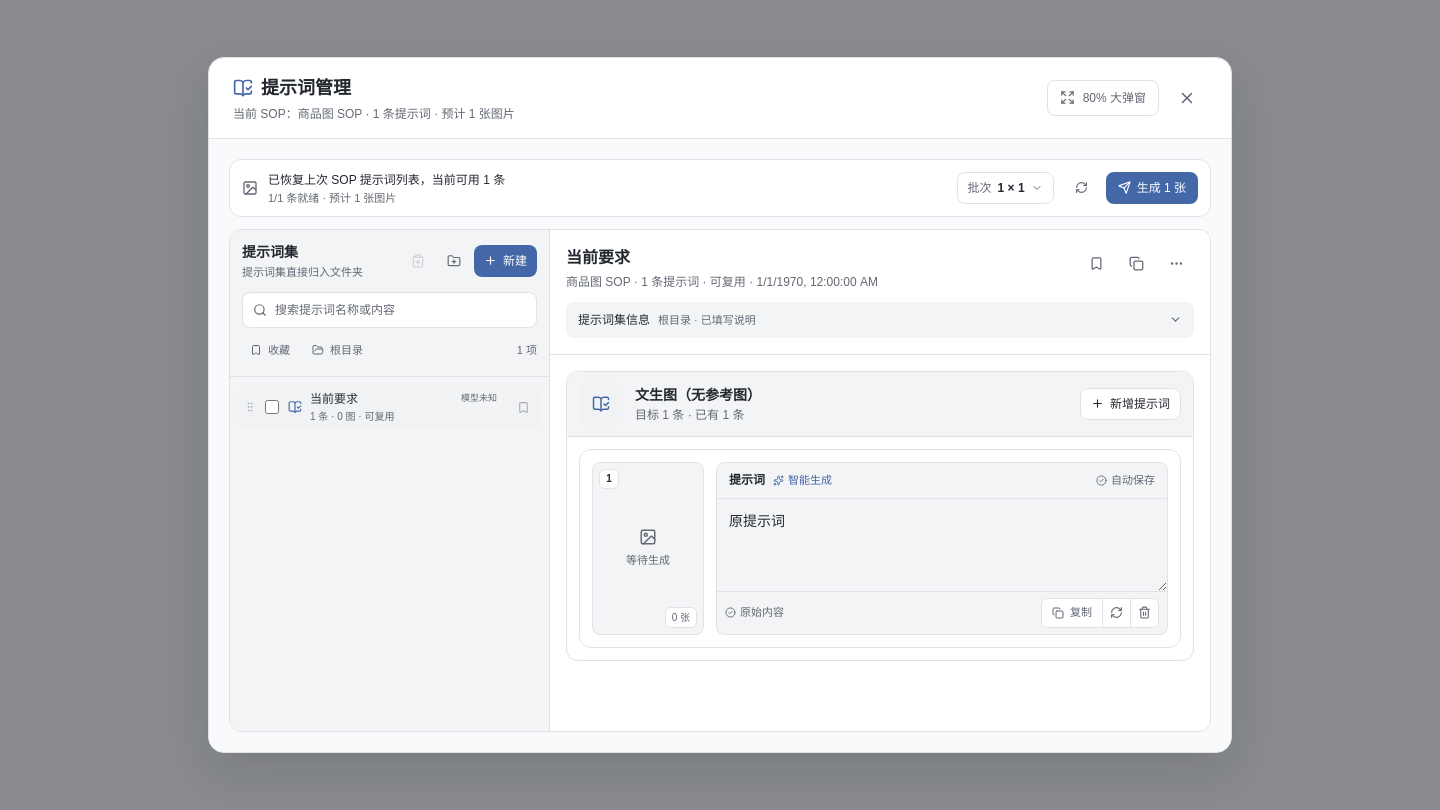
Scenario: GallerySopBatchModal background generation › keeps the current prompt set in history when generating a new version
Click the button named "重新生成 1 条 SOP 提示词" at (1082, 188), box [1066,172,1098,204]
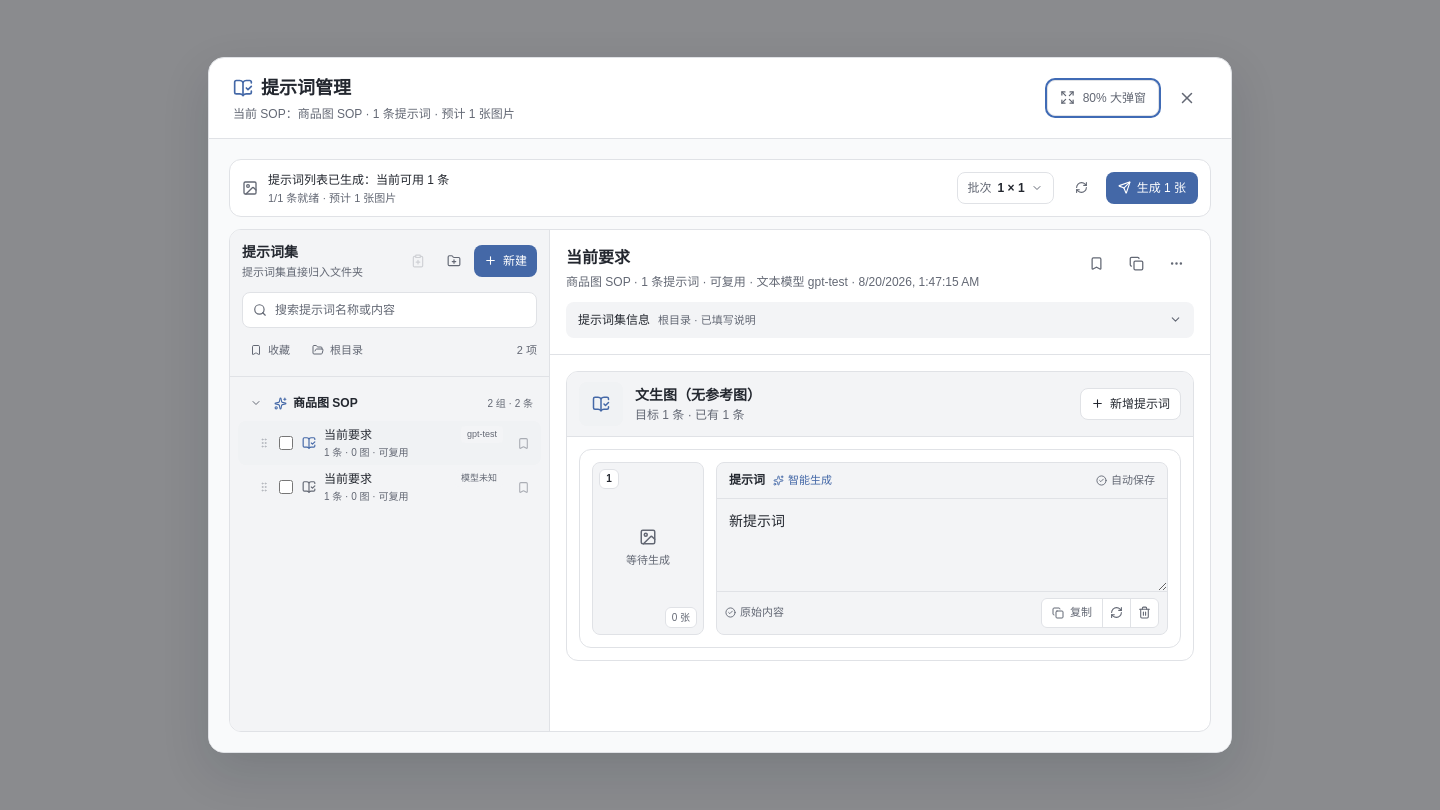
Check: the text box named "第 1 条提示词" holds "新提示词", box [717,499,1167,591]
